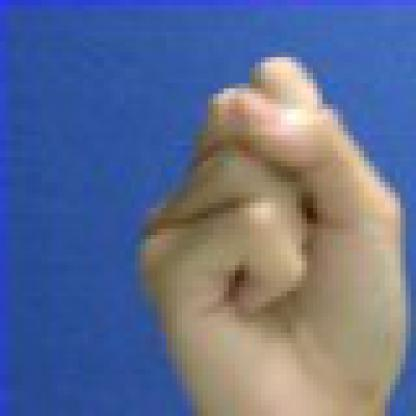zero: (62, 21, 411, 411)
